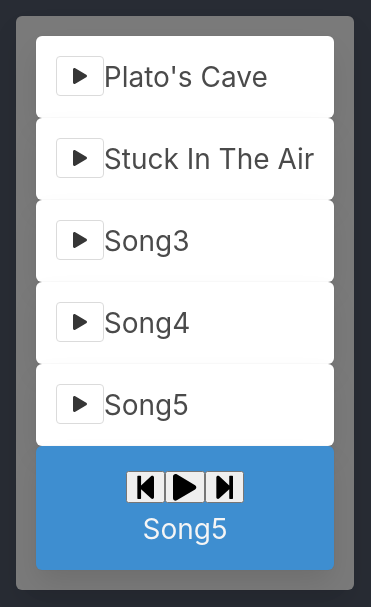
Test: The musicPlayer app › plays the next song (looped to first) when Next clicked
The image size is (371, 607).
Click the button with id "NextButton": (224, 487) [205,471,244,503]
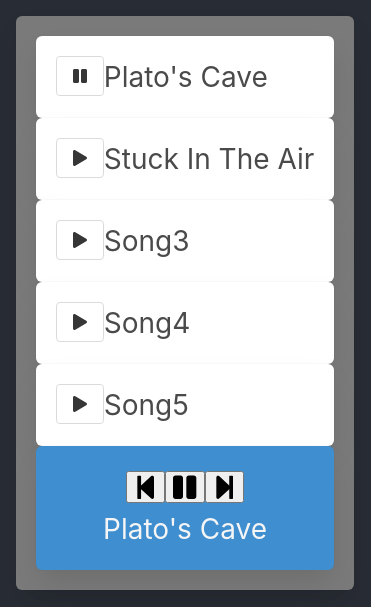
Expected: the heading with id "MusicLabel" reads "Plato's Cave", [103,512,267,546]
